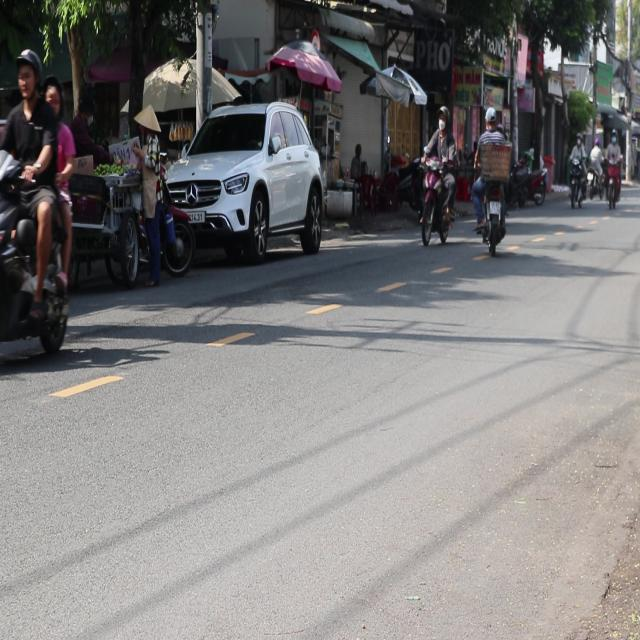helmet: (15, 48, 42, 104)
licenseplate: (0, 44, 78, 370)
